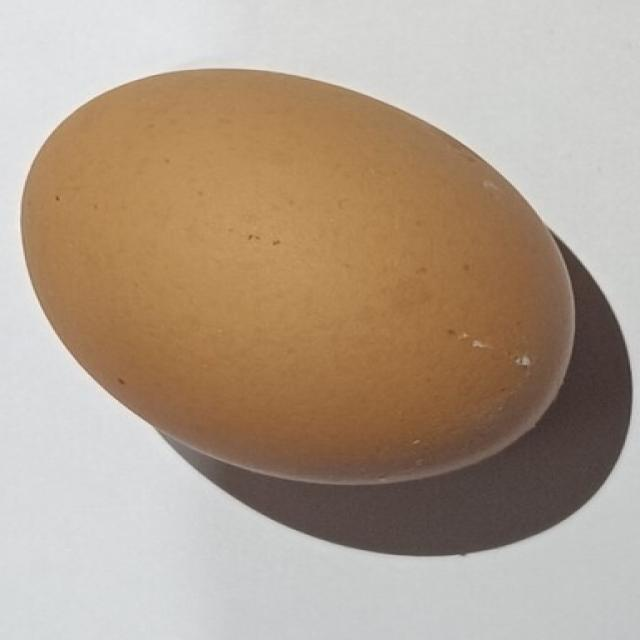fresh: (24, 65, 566, 484)
